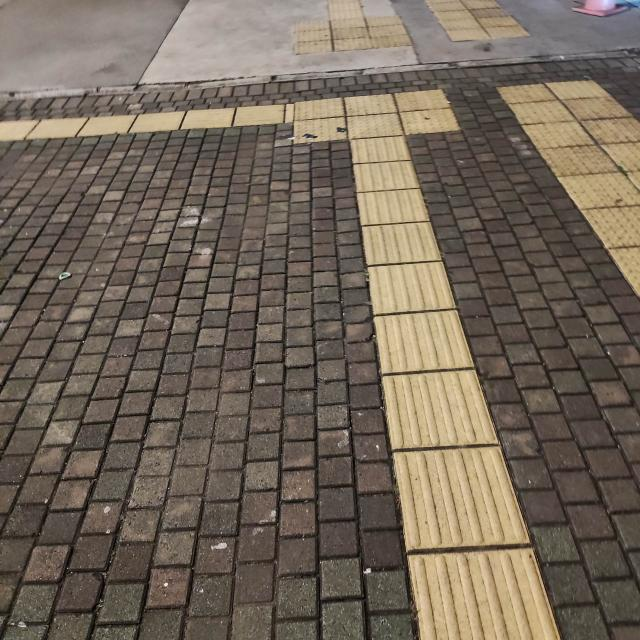kiri: (232, 89, 427, 161)
